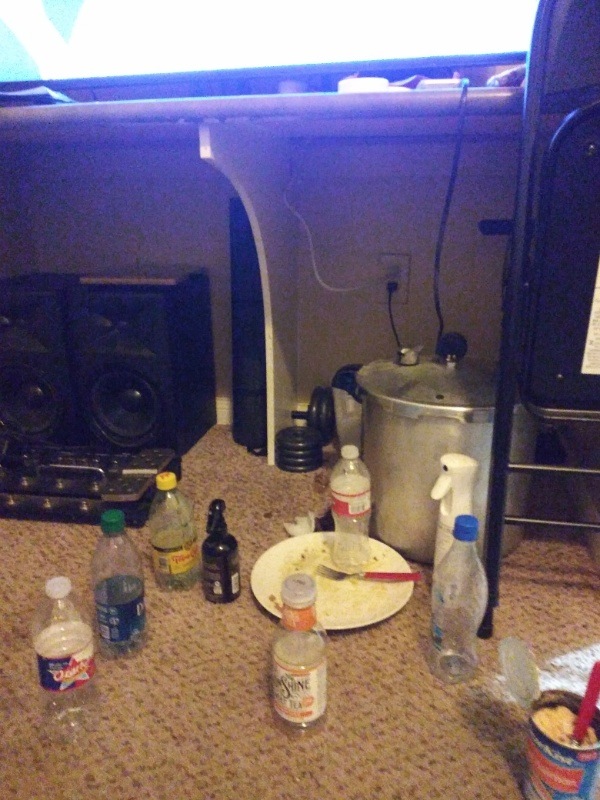bottle: (30, 574, 99, 742), (265, 573, 335, 737), (428, 511, 490, 686), (88, 509, 153, 656), (145, 463, 204, 596), (327, 443, 377, 572)
